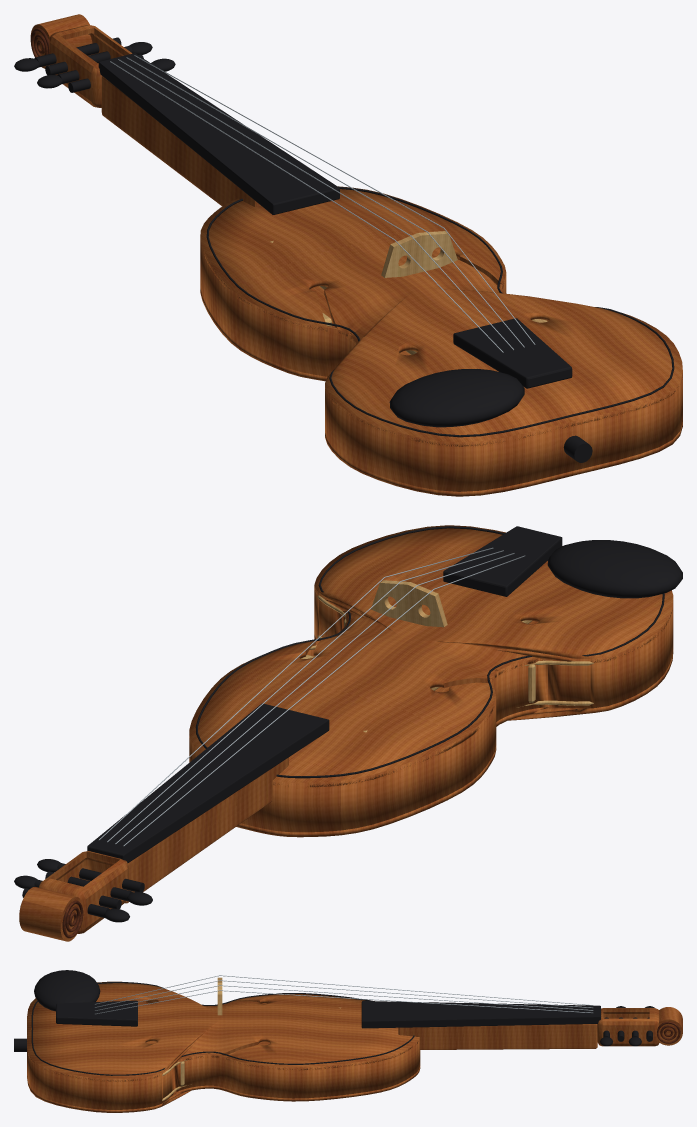
Rendered from 02_Violin.glb.
3 renders of one model, top to bottom at view 1: azimuth 30°, elevation 25°; view 2: azimuth 150°, elevation 25°; view 3: azimuth 270°, elevation 25°, orthographic. The views are drawn at different scales.
Parts seen in each view (by area): view 1: 01_carved_body_and_f_holes, 02_neck_scroll_and_pegs, 03_bridge_tailpiece_and_strings; view 2: 01_carved_body_and_f_holes, 02_neck_scroll_and_pegs, 03_bridge_tailpiece_and_strings, 04_corner_blocks_and_linings; view 3: 01_carved_body_and_f_holes, 02_neck_scroll_and_pegs, 03_bridge_tailpiece_and_strings, 04_corner_blocks_and_linings.
Boxes of the visible parts, x1,y1,x2,y2 form: 01_carved_body_and_f_holes: (200,186,682,496); 02_neck_scroll_and_pegs: (14,14,339,214); 03_bridge_tailpiece_and_strings: (110,55,592,462); 01_carved_body_and_f_holes: (189,525,673,837); 02_neck_scroll_and_pegs: (14,703,329,941); 03_bridge_tailpiece_and_strings: (99,526,682,846); 04_corner_blocks_and_linings: (301,595,593,707); 01_carved_body_and_f_holes: (27,981,420,1112); 02_neck_scroll_and_pegs: (361,1001,682,1049); 03_bridge_tailpiece_and_strings: (14,970,593,1051); 04_corner_blocks_and_linings: (162,1060,191,1100).
Size of the model in its own units: 0.2073 by 0.0872 by 0.604.
5 materials, 3 textured.
